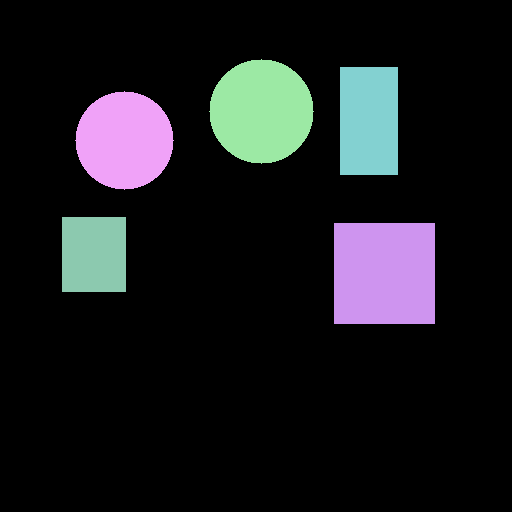circle: (209, 59, 313, 163), (75, 91, 173, 189)
rectangle: (340, 67, 397, 174), (62, 217, 125, 291)
square: (334, 223, 434, 323)
